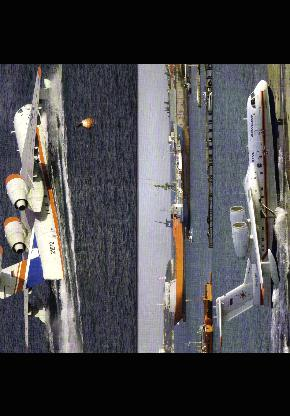B52: (211, 79, 284, 351), (0, 65, 65, 352)
